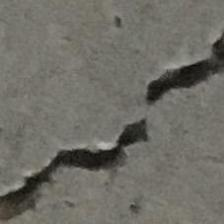Crack: (2, 12, 224, 224)
